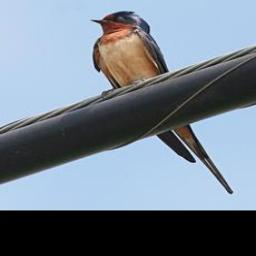Swallow: (89, 9, 234, 194)
